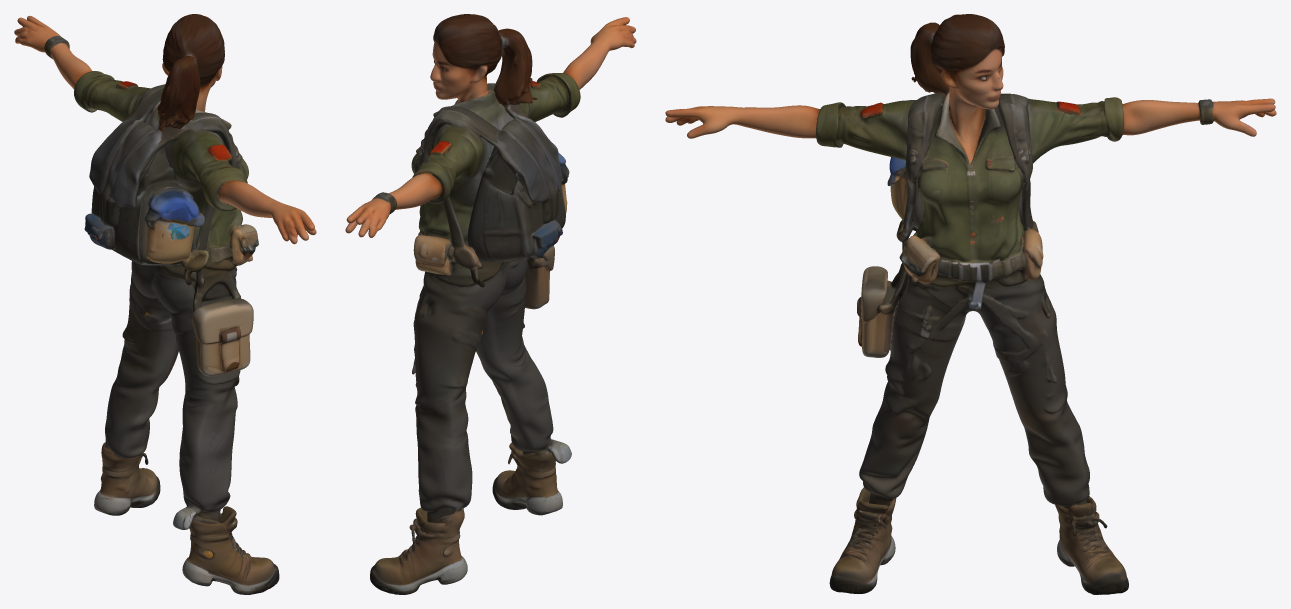
The model's file is CHR_Mara_Base.glb.
The picture shows the model from 3 angles, left to right: view 1: azimuth 30°, elevation 25°; view 2: azimuth 150°, elevation 25°; view 3: azimuth 270°, elevation 25°; orthographic projection. The views are drawn at different scales.
Parts seen in each view (by area): view 1: tripo_node_b7e6a3c4-aea8-480c-a116-2f424527bd89; view 2: tripo_node_b7e6a3c4-aea8-480c-a116-2f424527bd89; view 3: tripo_node_b7e6a3c4-aea8-480c-a116-2f424527bd89.
Part boxes in pixels (bbox=[...]): tripo_node_b7e6a3c4-aea8-480c-a116-2f424527bd89: bbox=[14, 14, 316, 594]; tripo_node_b7e6a3c4-aea8-480c-a116-2f424527bd89: bbox=[345, 14, 636, 594]; tripo_node_b7e6a3c4-aea8-480c-a116-2f424527bd89: bbox=[665, 14, 1276, 594].
Bounding box in the file's own units: 0.2823 × 1 × 0.9726.
Materials: 1 (1 with a texture image).
